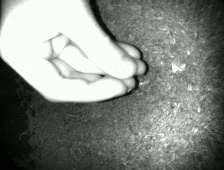corn: (177, 61, 188, 73), (170, 61, 178, 75)
